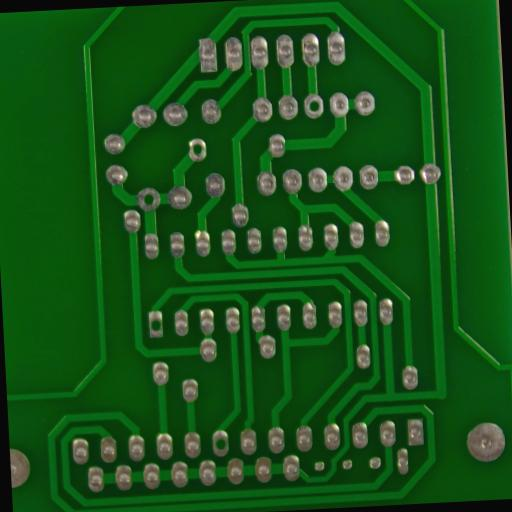missing_hole: (302, 94, 323, 118), (147, 312, 164, 340), (140, 189, 158, 210), (189, 140, 206, 159), (213, 436, 230, 454)
